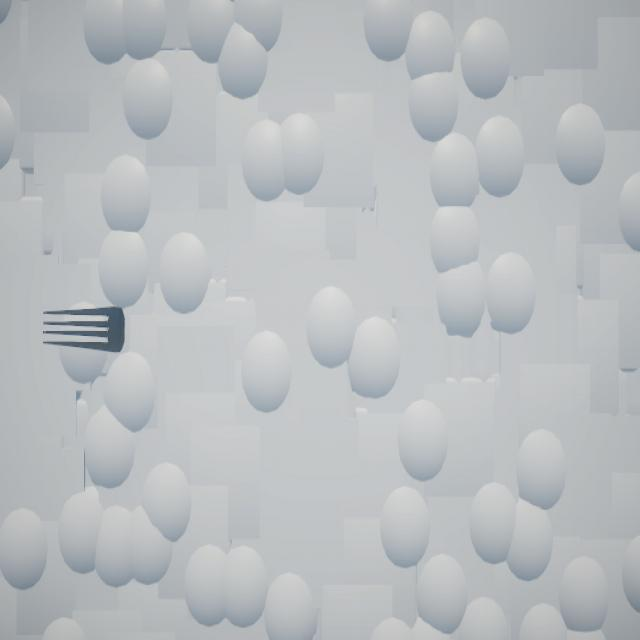top_folk: (44, 307, 126, 353)
